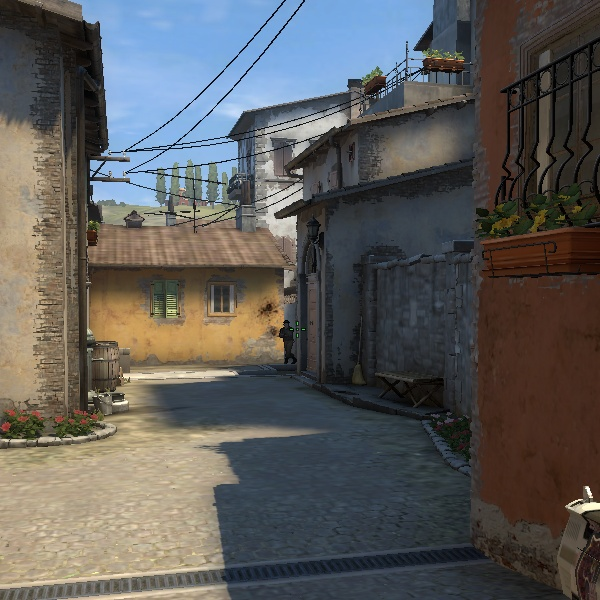t_body: (276, 316, 298, 368)
